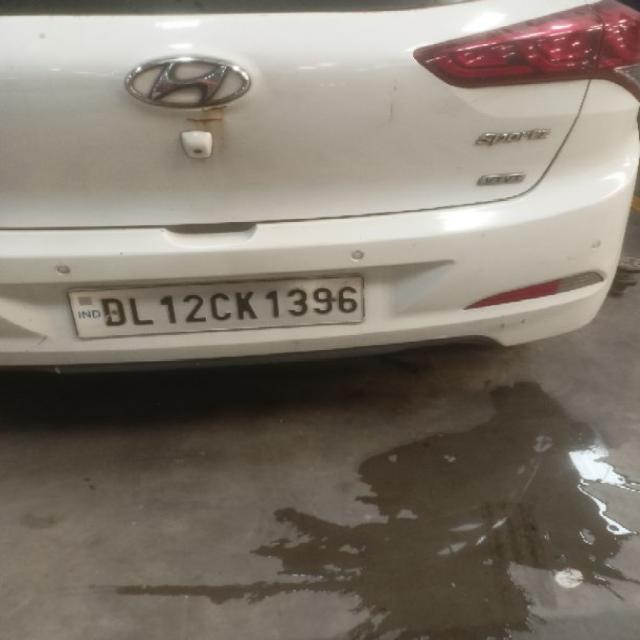license_plate: (65, 274, 366, 339)
